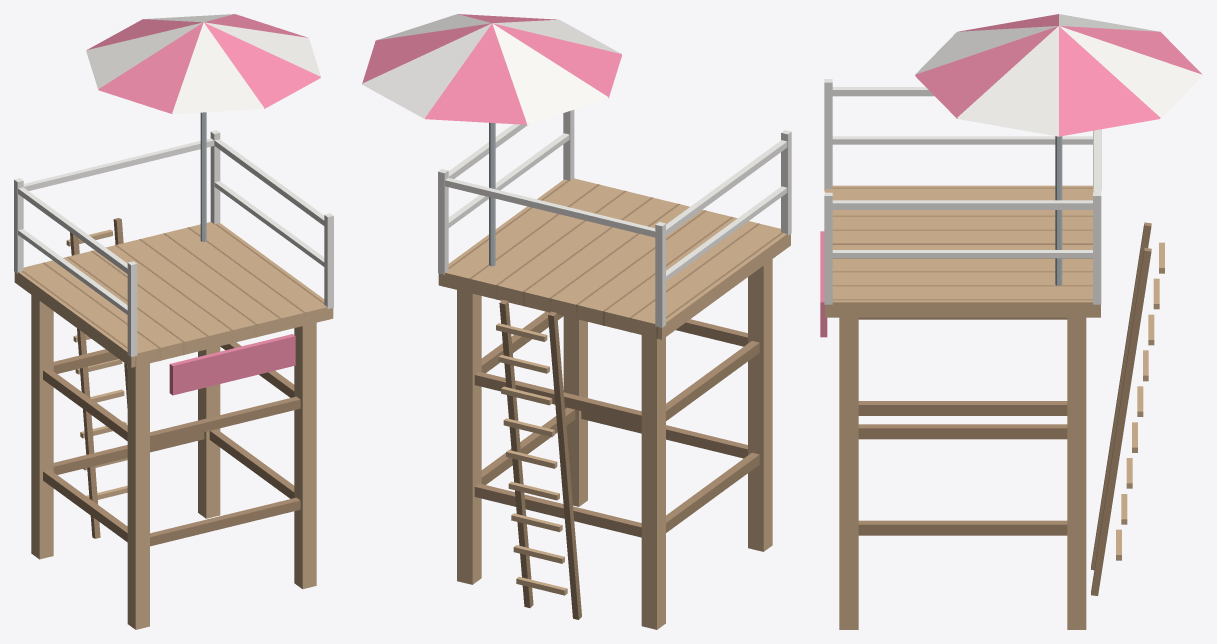
Rendered from PhotoTower.fbx.
The picture shows the model from 3 angles, left to right: view 1: azimuth 30°, elevation 25°; view 2: azimuth 150°, elevation 25°; view 3: azimuth 270°, elevation 25°; orthographic projection. The views are drawn at different scales.
Parts seen in each view (by area): view 1: PhotoTower; view 2: PhotoTower; view 3: PhotoTower.
Boxes of the visible parts, x1=… form: PhotoTower: x1=14, y1=14, x2=333, y2=629; PhotoTower: x1=362, y1=14, x2=791, y2=629; PhotoTower: x1=820, y1=14, x2=1202, y2=629.
Size of the model in its own units: 3.15 by 5.49 by 3.19.
